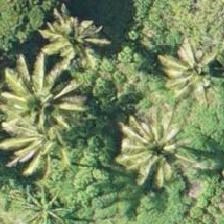coconut_tree: (0, 58, 90, 148), (105, 107, 195, 197), (30, 0, 120, 86), (142, 22, 223, 112)
